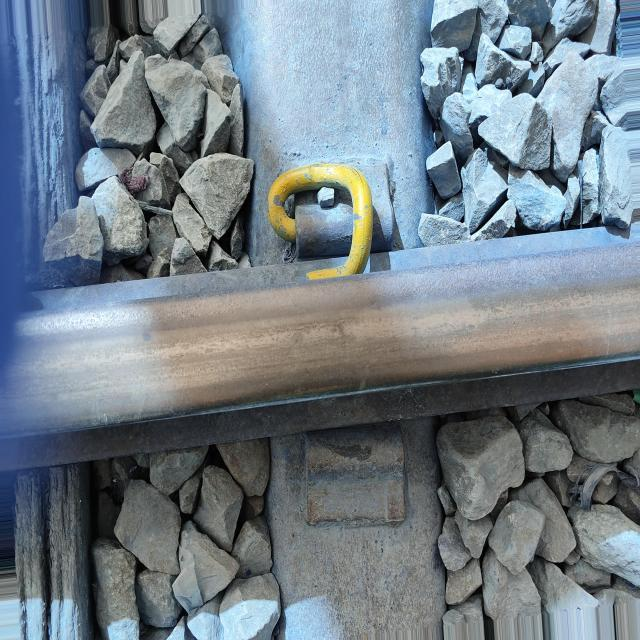Good Fasteners: (262, 140, 431, 287)
Missing Fastener: (299, 396, 437, 544)
